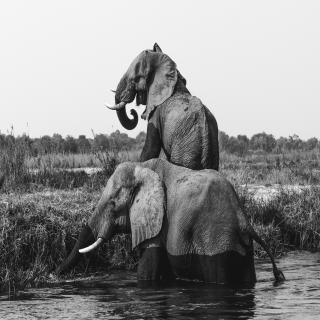Elephant: (56, 158, 285, 300), (105, 36, 224, 177)
